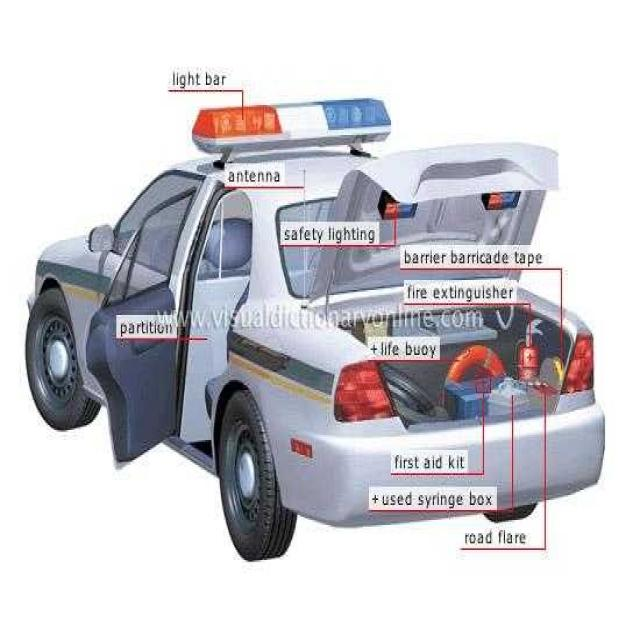firetruck: (28, 92, 593, 571)
